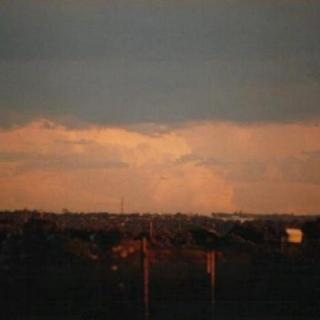Stratocumulus: (0, 0, 320, 222)
